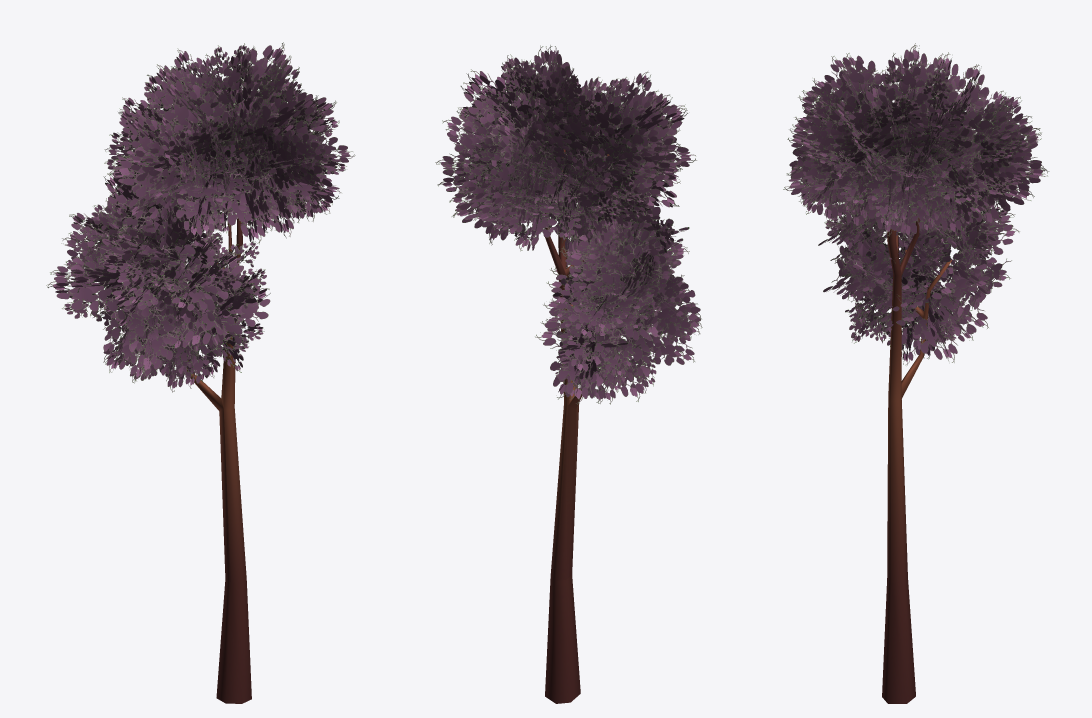
File: Tree_3B.fbx
3 renders of one model, left to right at view 1: azimuth 30°, elevation 25°; view 2: azimuth 150°, elevation 25°; view 3: azimuth 270°, elevation 25°, orthographic.
Parts seen in each view (by area): view 1: Tree_3B; view 2: Tree_3B; view 3: Tree_3B.
Boxes of the visible parts, <box> form: Tree_3B: <box>46,42,355,703</box>; Tree_3B: <box>435,45,702,703</box>; Tree_3B: <box>783,43,1049,703</box>.
Bounding box in the file's own units: 404 × 843 × 367.
